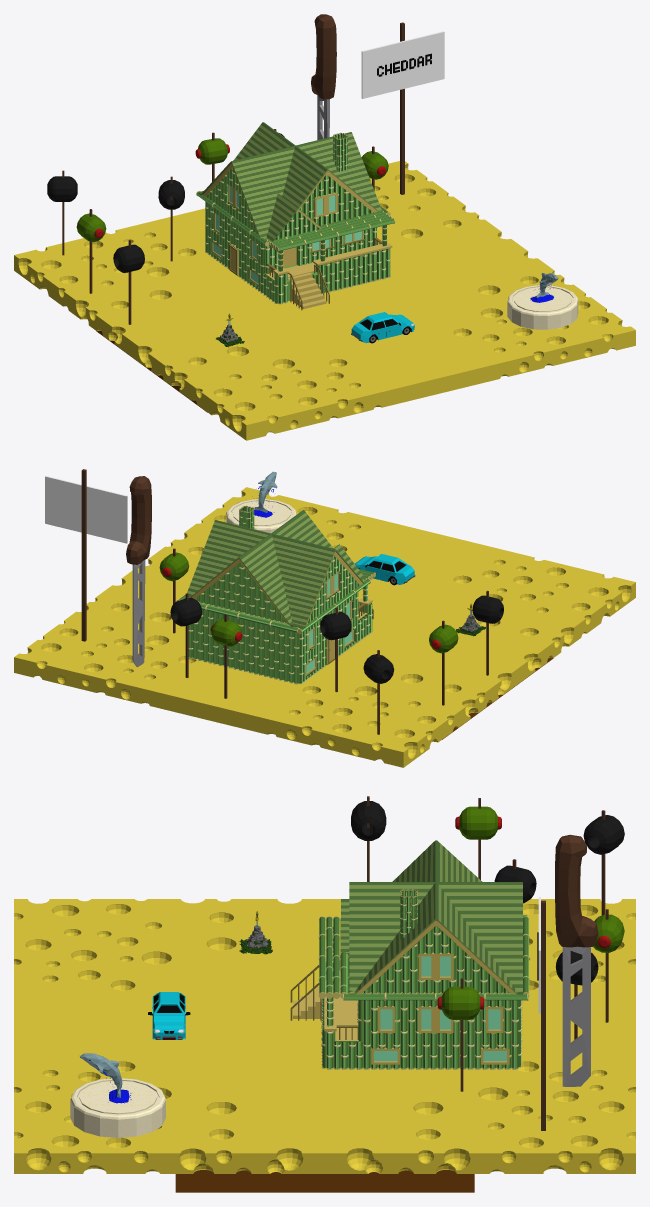
The picture shows the model from 3 angles, top to bottom: view 1: azimuth 30°, elevation 25°; view 2: azimuth 150°, elevation 25°; view 3: azimuth 270°, elevation 25°; orthographic projection. The views are drawn at different scales.
Visible parts, largest first — view 1: Cube.022, Cube.1327, Cube.023, Cylinder.016, Cube.024, VEHICLES_CAR, Sphere.017, Sphere.016, Sphere.018, Sphere.020, Sphere.022, Sphere.019; view 2: Cube.022, Cube.1327, Cube.023, Cube.024, Cylinder.016, VEHICLES_CAR, Sphere.021, Sphere.022, Sphere.020, Sphere.017, Sphere.016, Sphere.018 (+2 smaller); view 3: Cube.022, Cube.1327, Cube.024, UNDERGROUND_ART_PIECE_VAN_GOGH, Cylinder.016, VEHICLES_CAR, Sphere.019, Sphere.016, Cube.023, Sphere.018, Sphere.017, Sphere.022 (+4 smaller).
Boxes of the visible parts, bbox=[...] form: Cube.022: bbox=[14, 161, 635, 440]; Cube.1327: bbox=[196, 122, 395, 310]; Cube.023: bbox=[361, 22, 444, 194]; Cylinder.016: bbox=[507, 285, 578, 329]; Cube.024: bbox=[311, 14, 336, 139]; VEHICLES_CAR: bbox=[351, 312, 414, 343]; Sphere.017: bbox=[113, 240, 144, 324]; Sphere.016: bbox=[47, 170, 77, 255]; Sphere.018: bbox=[76, 209, 106, 293]; Sphere.020: bbox=[158, 176, 184, 261]; Sphere.022: bbox=[195, 132, 229, 181]; Sphere.019: bbox=[361, 146, 388, 190]; Cube.022: bbox=[14, 487, 635, 767]; Cube.1327: bbox=[176, 505, 375, 684]; Cube.023: bbox=[45, 469, 127, 641]; Cube.024: bbox=[126, 476, 151, 667]; Cylinder.016: bbox=[226, 499, 296, 533]; VEHICLES_CAR: bbox=[355, 554, 415, 585]; Sphere.021: bbox=[170, 593, 202, 677]; Sphere.022: bbox=[210, 614, 242, 698]; Sphere.020: bbox=[320, 607, 351, 692]; Sphere.017: bbox=[472, 590, 503, 675]; Sphere.016: bbox=[363, 650, 394, 734]; Sphere.018: bbox=[429, 620, 458, 705]; Cube.022: bbox=[14, 899, 635, 1173]; Cube.1327: bbox=[290, 840, 529, 1069]; Cube.024: bbox=[555, 834, 598, 1086]; UNDERGROUND_ART_PIECE_VAN_GOGH: bbox=[175, 1170, 474, 1192]; Cylinder.016: bbox=[70, 1078, 165, 1137]; VEHICLES_CAR: bbox=[148, 992, 190, 1039]; Sphere.019: bbox=[437, 978, 484, 1091]; Sphere.016: bbox=[583, 810, 624, 915]; Cube.023: bbox=[537, 897, 545, 1130]; Sphere.018: bbox=[455, 798, 501, 879]; Sphere.017: bbox=[351, 796, 386, 881]; Sphere.022: bbox=[593, 909, 624, 1022].
Bounding box in the file's own units: 3917 × 2132 × 4000.
39 materials, 5 textured.
